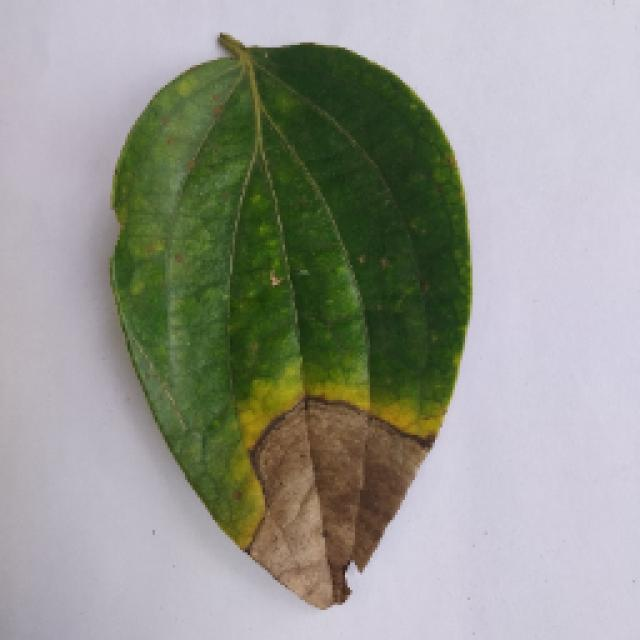footrot: (95, 45, 483, 610)
